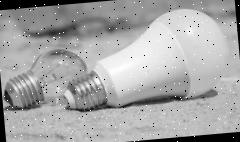lightbulb: (55, 5, 232, 113), (0, 44, 90, 110)
